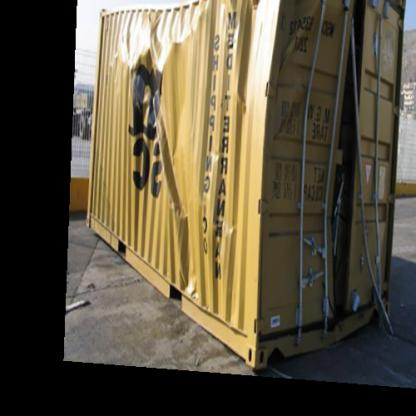Damage: (320, 4, 380, 312), (135, 22, 195, 282)
